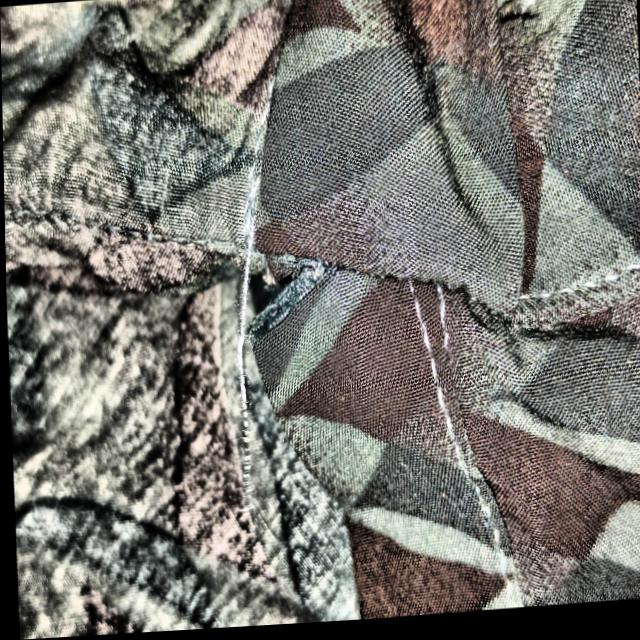Stitch: (215, 82, 298, 520)
